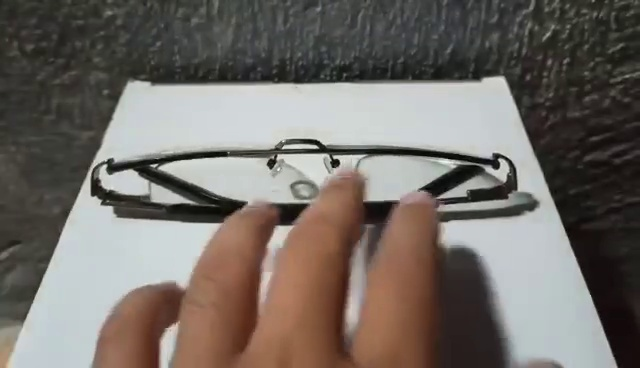glasses: (91, 138, 538, 225)
